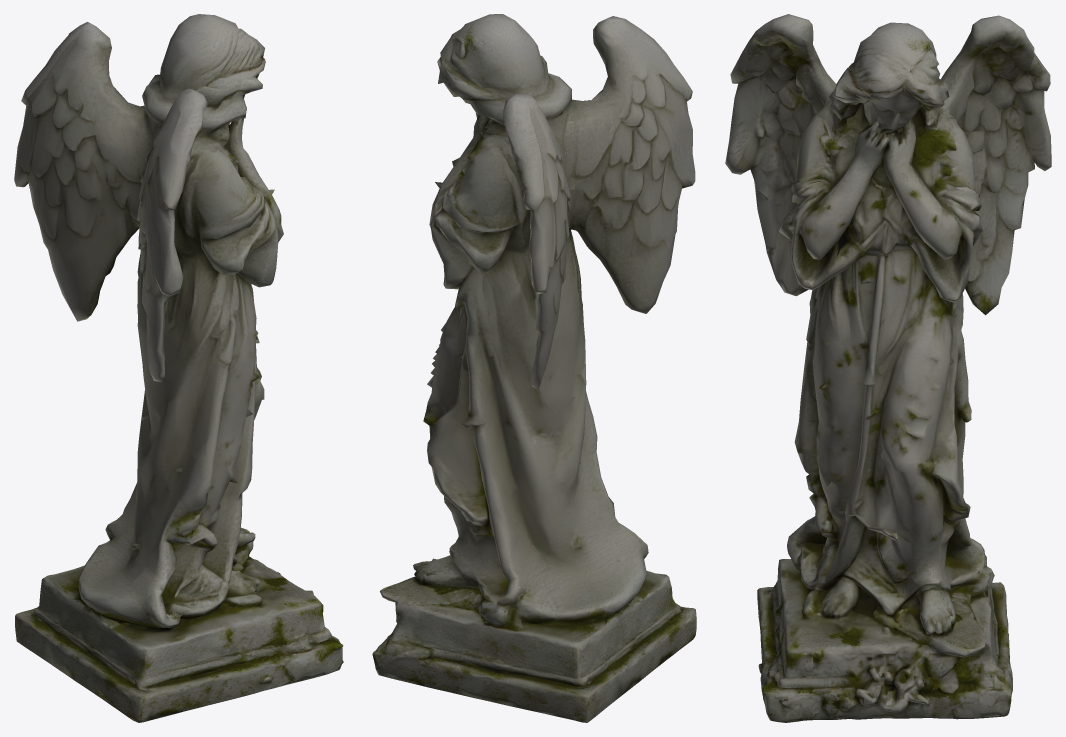
Rendered from angel.glb.
The picture shows the model from 3 angles, left to right: view 1: azimuth 30°, elevation 25°; view 2: azimuth 150°, elevation 25°; view 3: azimuth 270°, elevation 25°; orthographic projection. The views are drawn at different scales.
Parts seen in each view (by area): view 1: tripo_node_18ceb336-f8b6-4c48-985f-7d6186d8bc21; view 2: tripo_node_18ceb336-f8b6-4c48-985f-7d6186d8bc21; view 3: tripo_node_18ceb336-f8b6-4c48-985f-7d6186d8bc21.
Part boxes in pixels (box(x1,y1,x2,y2)): tripo_node_18ceb336-f8b6-4c48-985f-7d6186d8bc21: box(14, 14, 343, 722); tripo_node_18ceb336-f8b6-4c48-985f-7d6186d8bc21: box(372, 14, 696, 722); tripo_node_18ceb336-f8b6-4c48-985f-7d6186d8bc21: box(725, 14, 1051, 722).
Bounding box in the file's own units: 0.379 × 1 × 0.4492.
1 material, 1 textured.
